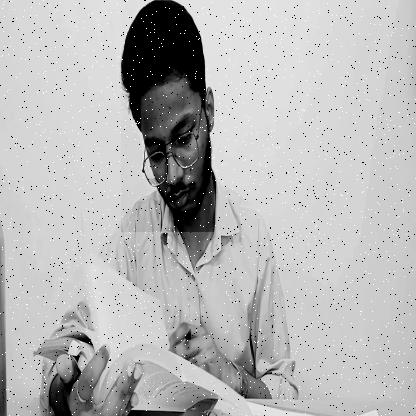Distracted: (121, 1, 214, 232)
